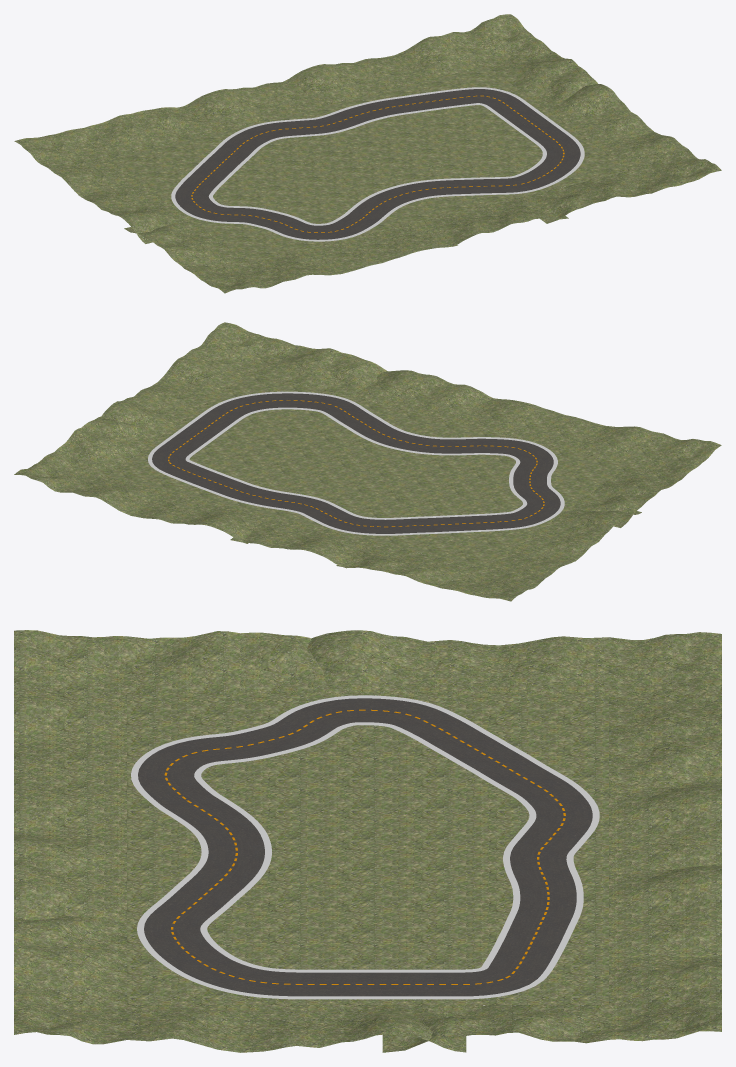
Rendered from 03_A_Virtual_May19_Train_track.dae.
3 renders of one model, top to bottom at view 1: azimuth 30°, elevation 25°; view 2: azimuth 150°, elevation 25°; view 3: azimuth 270°, elevation 25°, orthographic. The views are drawn at different scales.
Parts seen in each view (by area): view 1: bg_terrain, field, road; view 2: bg_terrain, field, road; view 3: bg_terrain, field, road.
Boxes of the visible parts, box(x1,y1,x2,y2) form: bg_terrain: box(14, 14, 721, 293); field: box(106, 66, 629, 263); road: box(171, 87, 584, 241); bg_terrain: box(14, 322, 721, 601); field: box(106, 372, 629, 569); road: box(148, 391, 564, 535); bg_terrain: box(14, 630, 721, 1052); field: box(127, 693, 608, 1004); road: box(131, 695, 599, 999).
Size of the model in its own units: 10.4 by 7.64 by 0.2962.
6 materials, 6 textured.
